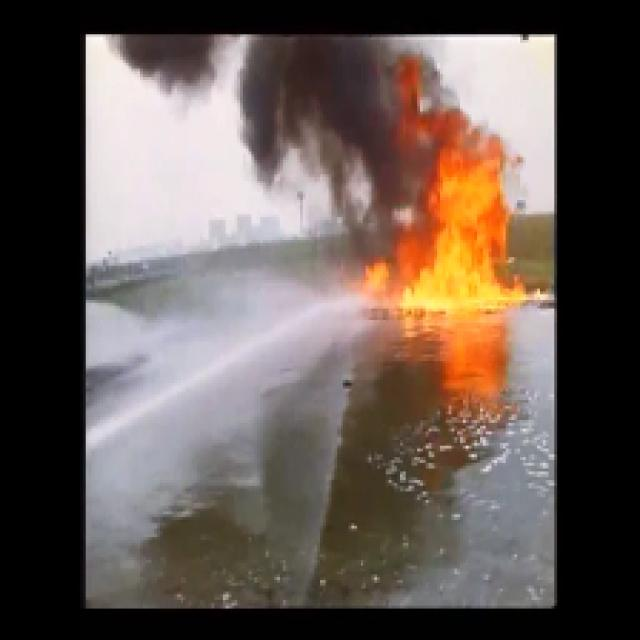fire: (438, 140, 507, 309)
smoke: (252, 42, 388, 211)
